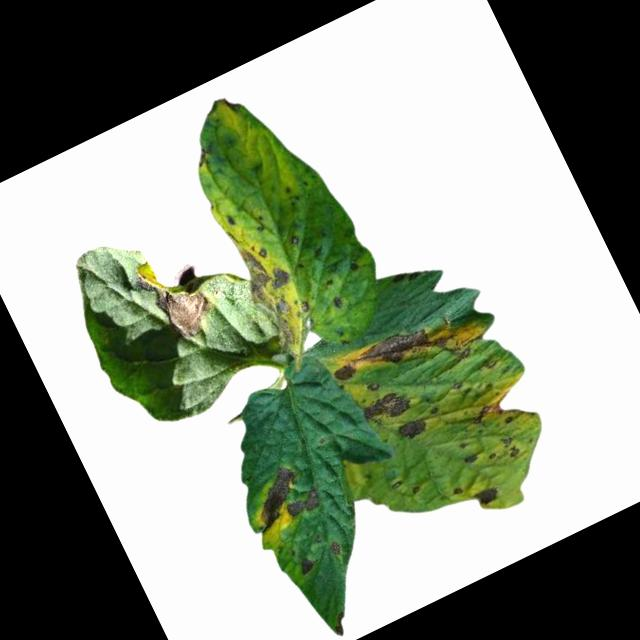Early_blight: (228, 233, 319, 359), (128, 243, 222, 352), (353, 310, 457, 387), (244, 465, 309, 532), (361, 385, 414, 431), (282, 485, 326, 524), (394, 411, 434, 446), (469, 396, 511, 429), (207, 93, 243, 124), (331, 358, 362, 387), (500, 432, 526, 462), (472, 484, 501, 509), (296, 554, 320, 578), (326, 539, 346, 561), (328, 295, 347, 316), (465, 452, 482, 468)
